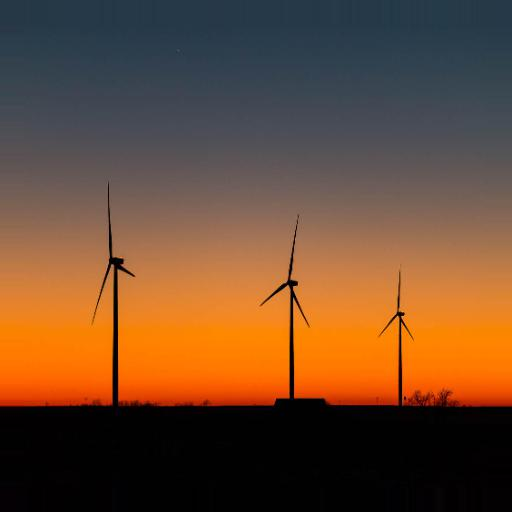wind turbine: (91, 179, 137, 404), (260, 212, 312, 405), (378, 271, 415, 405)
